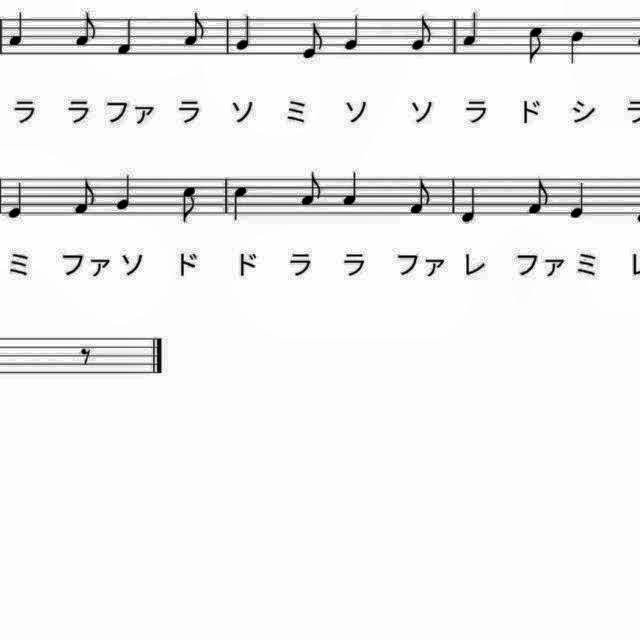Eighth-note: (521, 172, 553, 220), (296, 19, 328, 65), (404, 176, 436, 222), (178, 8, 210, 52), (70, 8, 102, 52), (296, 166, 328, 210), (68, 176, 100, 220), (407, 12, 438, 56), (522, 21, 550, 68), (176, 181, 202, 229)
Eighth-rest: (74, 342, 98, 370)
Quarter-note: (112, 13, 140, 59), (340, 9, 368, 55), (110, 170, 138, 216), (2, 175, 30, 221), (338, 166, 366, 210), (228, 182, 256, 226), (456, 182, 482, 228), (566, 178, 592, 222), (233, 12, 259, 56), (6, 8, 30, 52), (458, 8, 482, 52), (564, 28, 588, 70)
